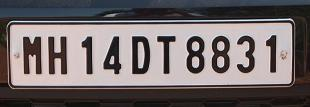1: (79, 33, 96, 75), (263, 34, 279, 75)
3: (234, 34, 255, 75)
4: (101, 35, 123, 75)
8: (184, 34, 206, 73), (210, 34, 231, 73)
D: (129, 34, 151, 75)
H: (46, 33, 68, 76)
M: (19, 34, 44, 75)
T: (155, 34, 177, 74)
